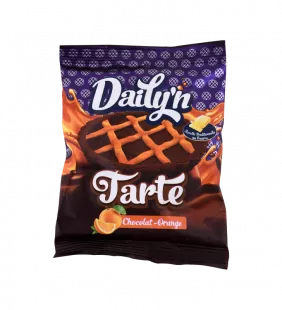Promotion: (45, 37, 236, 276)
